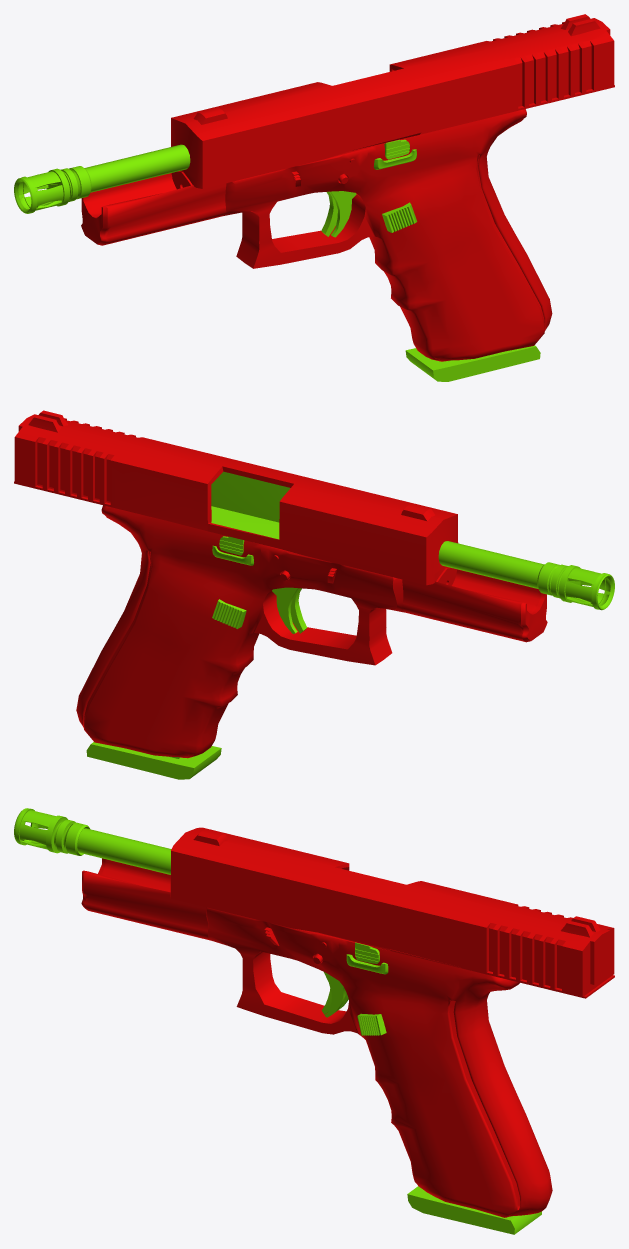
Rendered from gun_voor_joel.fbx.
3 views of the same model, one above another, from view 1: azimuth 30°, elevation 25°; view 2: azimuth 150°, elevation 25°; view 3: azimuth 330°, elevation 25° (orthographic).
Parts seen in each view (by area): view 1: stock.001, barrel.001, flah hider.001, Magzzine open.001, magazine trigger trigger.001, trigger.001; view 2: stock.001, barrel.001, flah hider.001, bullet chamber closed.001, Magzzine open.001, trigger.001, magazine trigger trigger.001; view 3: stock.001, barrel.001, flah hider.001, Magzzine open.001, magazine trigger trigger.001, trigger.001.
Part boxes in pixels (box(x1,y1,x2,y2)): stock.001: box(81, 109, 552, 361); barrel.001: box(171, 14, 614, 189); flah hider.001: box(14, 144, 190, 213); Magzzine open.001: box(405, 345, 540, 381); magazine trigger trigger.001: box(373, 149, 417, 232); trigger.001: box(321, 191, 356, 237); stock.001: box(76, 505, 547, 758); barrel.001: box(14, 410, 458, 585); flah hider.001: box(438, 541, 614, 610); bullet chamber closed.001: box(211, 471, 290, 539); Magzzine open.001: box(86, 742, 221, 779); trigger.001: box(272, 587, 307, 633); magazine trigger trigger.001: box(212, 545, 253, 628); stock.001: box(81, 858, 552, 1217); barrel.001: box(170, 827, 614, 998); flah hider.001: box(14, 808, 171, 874); Magzzine open.001: box(407, 1186, 541, 1234); magazine trigger trigger.001: box(346, 954, 388, 1035); trigger.001: box(321, 972, 348, 1017).
Size of the model in its own units: 0.3201 by 0.1674 by 0.0347.
